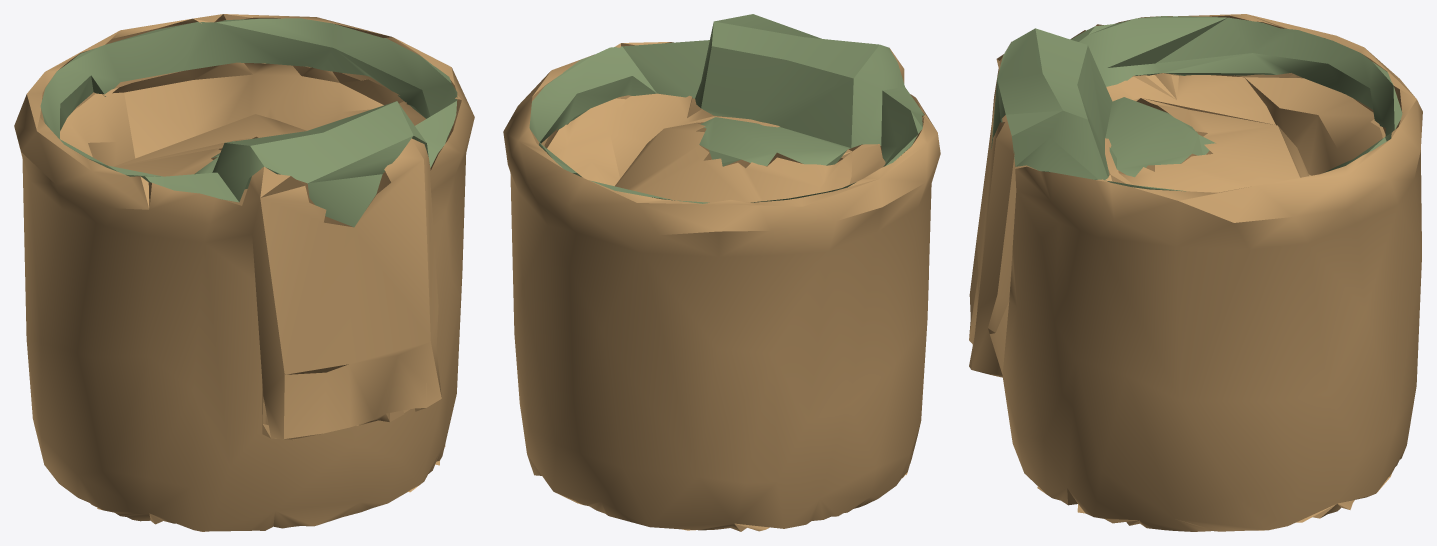
The model's file is basket.glb.
3 views of the same model, side by side, from view 1: azimuth 30°, elevation 25°; view 2: azimuth 150°, elevation 25°; view 3: azimuth 270°, elevation 25° (orthographic). The views are drawn at different scales.
Visible parts, largest first — view 1: basket_rattan, basket_blanket; view 2: basket_rattan, basket_blanket; view 3: basket_rattan, basket_blanket.
Part boxes in pixels (box(x1,y1,x2,y2)): basket_rattan: box(14, 14, 474, 531); basket_blanket: box(40, 18, 457, 227); basket_rattan: box(503, 42, 940, 531); basket_blanket: box(529, 14, 924, 203); basket_rattan: box(969, 14, 1422, 531); basket_blanket: box(991, 16, 1402, 191).
Bounding box in the file's own units: 0.6026 × 0.5541 × 0.5951.
